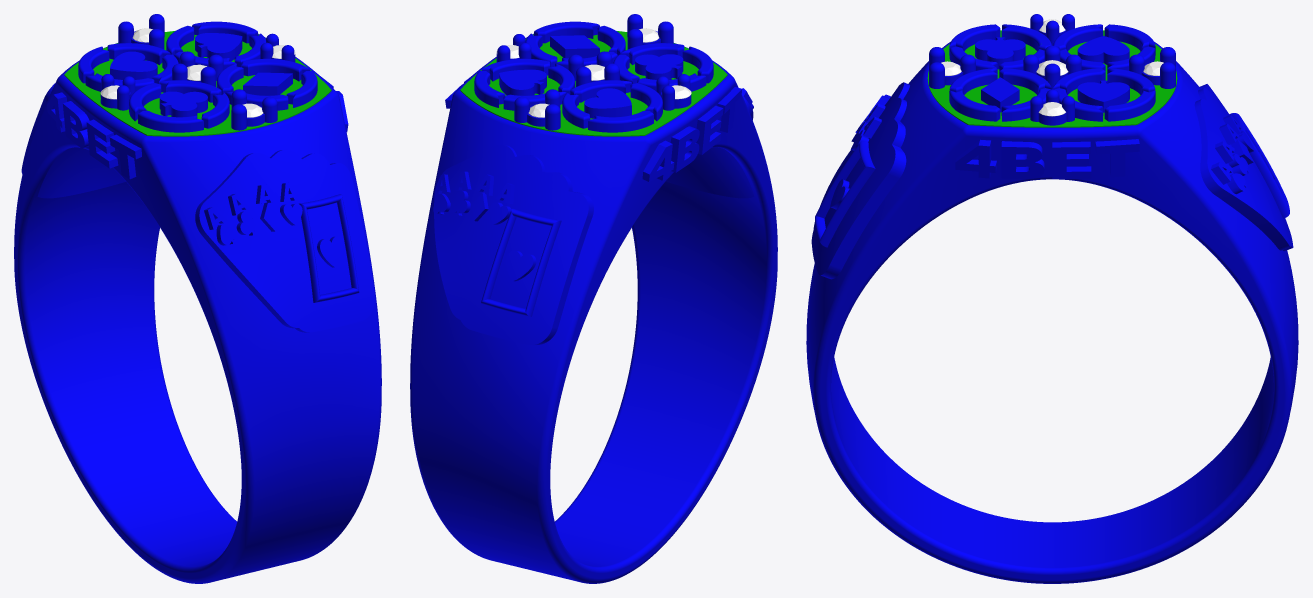
3 views of the same model, side by side, from view 1: azimuth 30°, elevation 25°; view 2: azimuth 150°, elevation 25°; view 3: azimuth 270°, elevation 25° (orthographic). The views are drawn at different scales.
Visible parts, largest first — view 1: anel 4bet.3dm; view 2: anel 4bet.3dm; view 3: anel 4bet.3dm.
Boxes of the visible parts, x1,y1,x2,y2 form: anel 4bet.3dm: (14, 14, 381, 583); anel 4bet.3dm: (410, 14, 777, 583); anel 4bet.3dm: (806, 14, 1298, 583).
Bounding box in the file's own units: 1.33 × 2.83 × 2.49.
